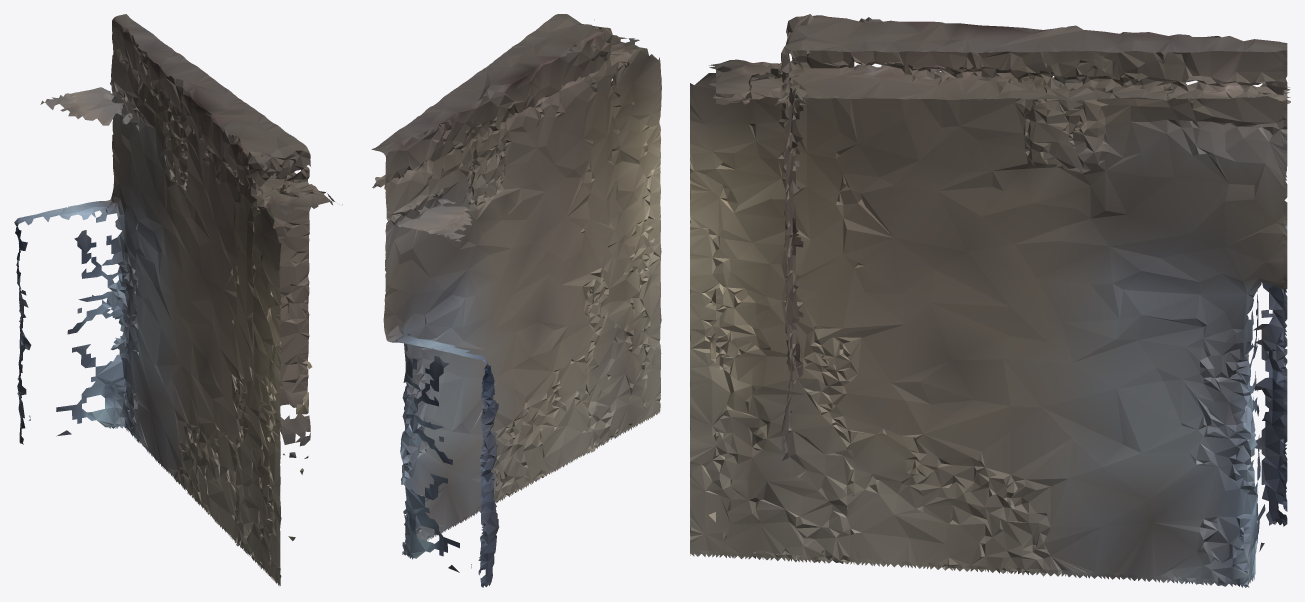
Rendered from coarse.glb.
The picture shows the model from 3 angles, left to right: view 1: azimuth 30°, elevation 25°; view 2: azimuth 150°, elevation 25°; view 3: azimuth 270°, elevation 25°; orthographic projection. The views are drawn at different scales.
Size of the model in its own units: 0.4448 by 1.48 by 1.46.
